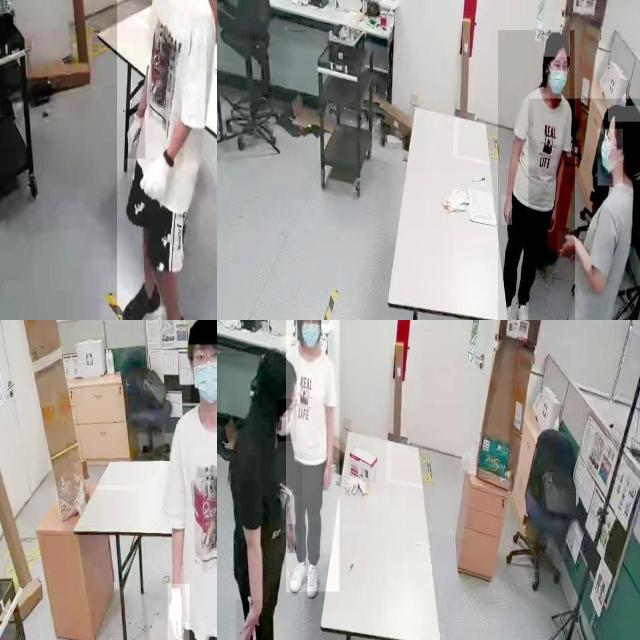face_mask: (190, 356, 217, 412), (597, 128, 623, 186), (548, 60, 570, 105), (298, 320, 321, 357), (277, 399, 297, 441)
hand_glove: (144, 144, 178, 212), (167, 583, 190, 640), (126, 109, 146, 159)
hand_noglove: (236, 599, 262, 640), (557, 231, 577, 259), (502, 196, 512, 226), (287, 524, 297, 554), (322, 463, 332, 491), (546, 207, 556, 233)
head_nohelmet: (255, 350, 298, 390), (187, 320, 217, 345), (544, 30, 570, 58), (608, 105, 640, 122)
person: (117, 0, 217, 320), (217, 346, 302, 640), (528, 98, 640, 320), (498, 30, 575, 320), (161, 320, 217, 640), (286, 320, 340, 592)
shoes: (121, 274, 162, 320), (286, 554, 308, 597), (304, 557, 320, 600), (514, 290, 533, 320)
